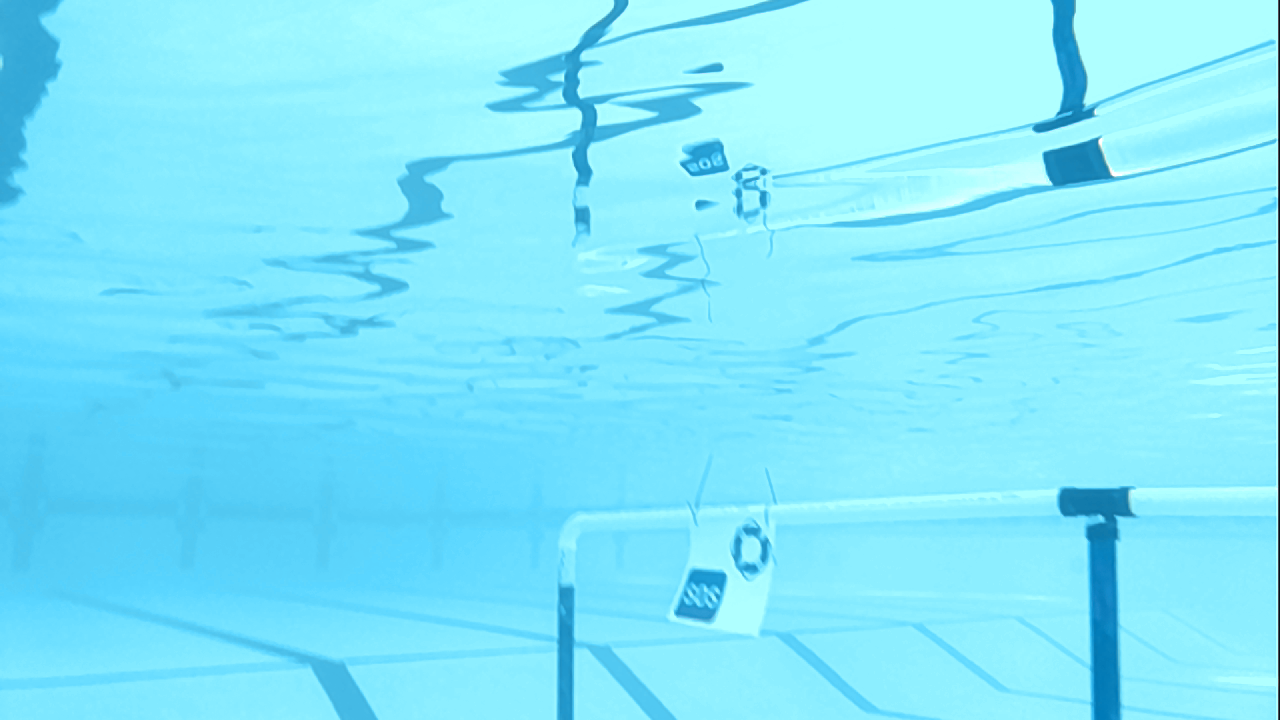sos_safety: (675, 505, 780, 627)
